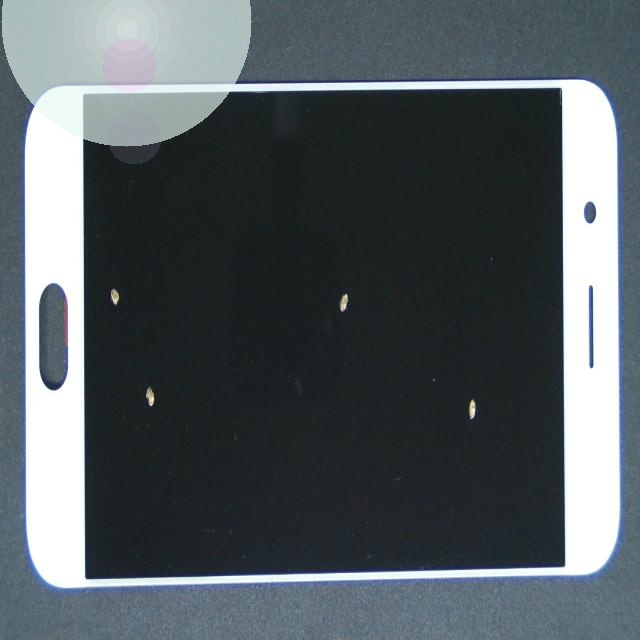stain: (206, 238, 640, 640), (193, 147, 529, 418), (103, 189, 239, 562), (46, 200, 172, 512)
